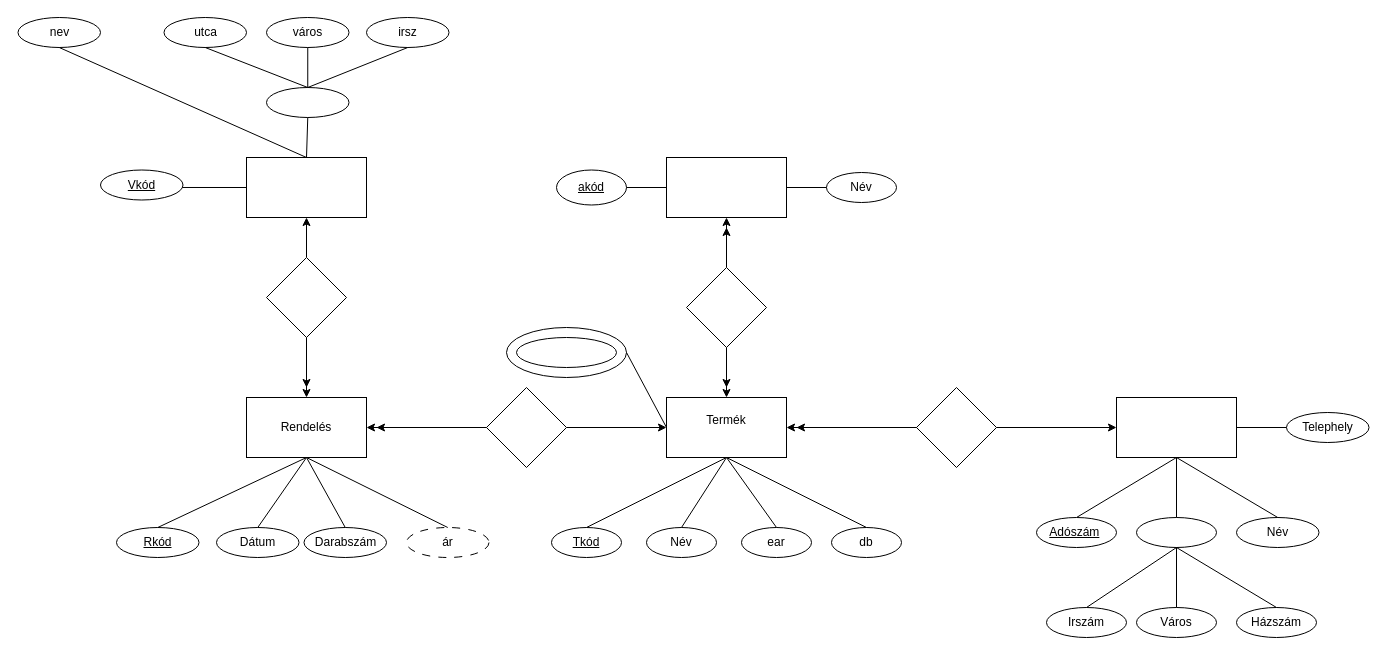
Image size: 1386x655. Some labels were removed from this diagram. Here are the shapes that lost their labels. From the top down, the box of each, then its label:
(266, 86, 349, 118): Lakcím
(246, 156, 366, 218): Vevő
(666, 156, 786, 218): Alkatrész
(266, 256, 346, 338): R-V
(686, 266, 766, 348): T-A
(516, 336, 616, 368): Egység_db
(486, 386, 566, 468): R-T
(916, 386, 996, 468): T-GY
(1116, 396, 1236, 458): Gyártó
(1136, 516, 1216, 548): Postacím
